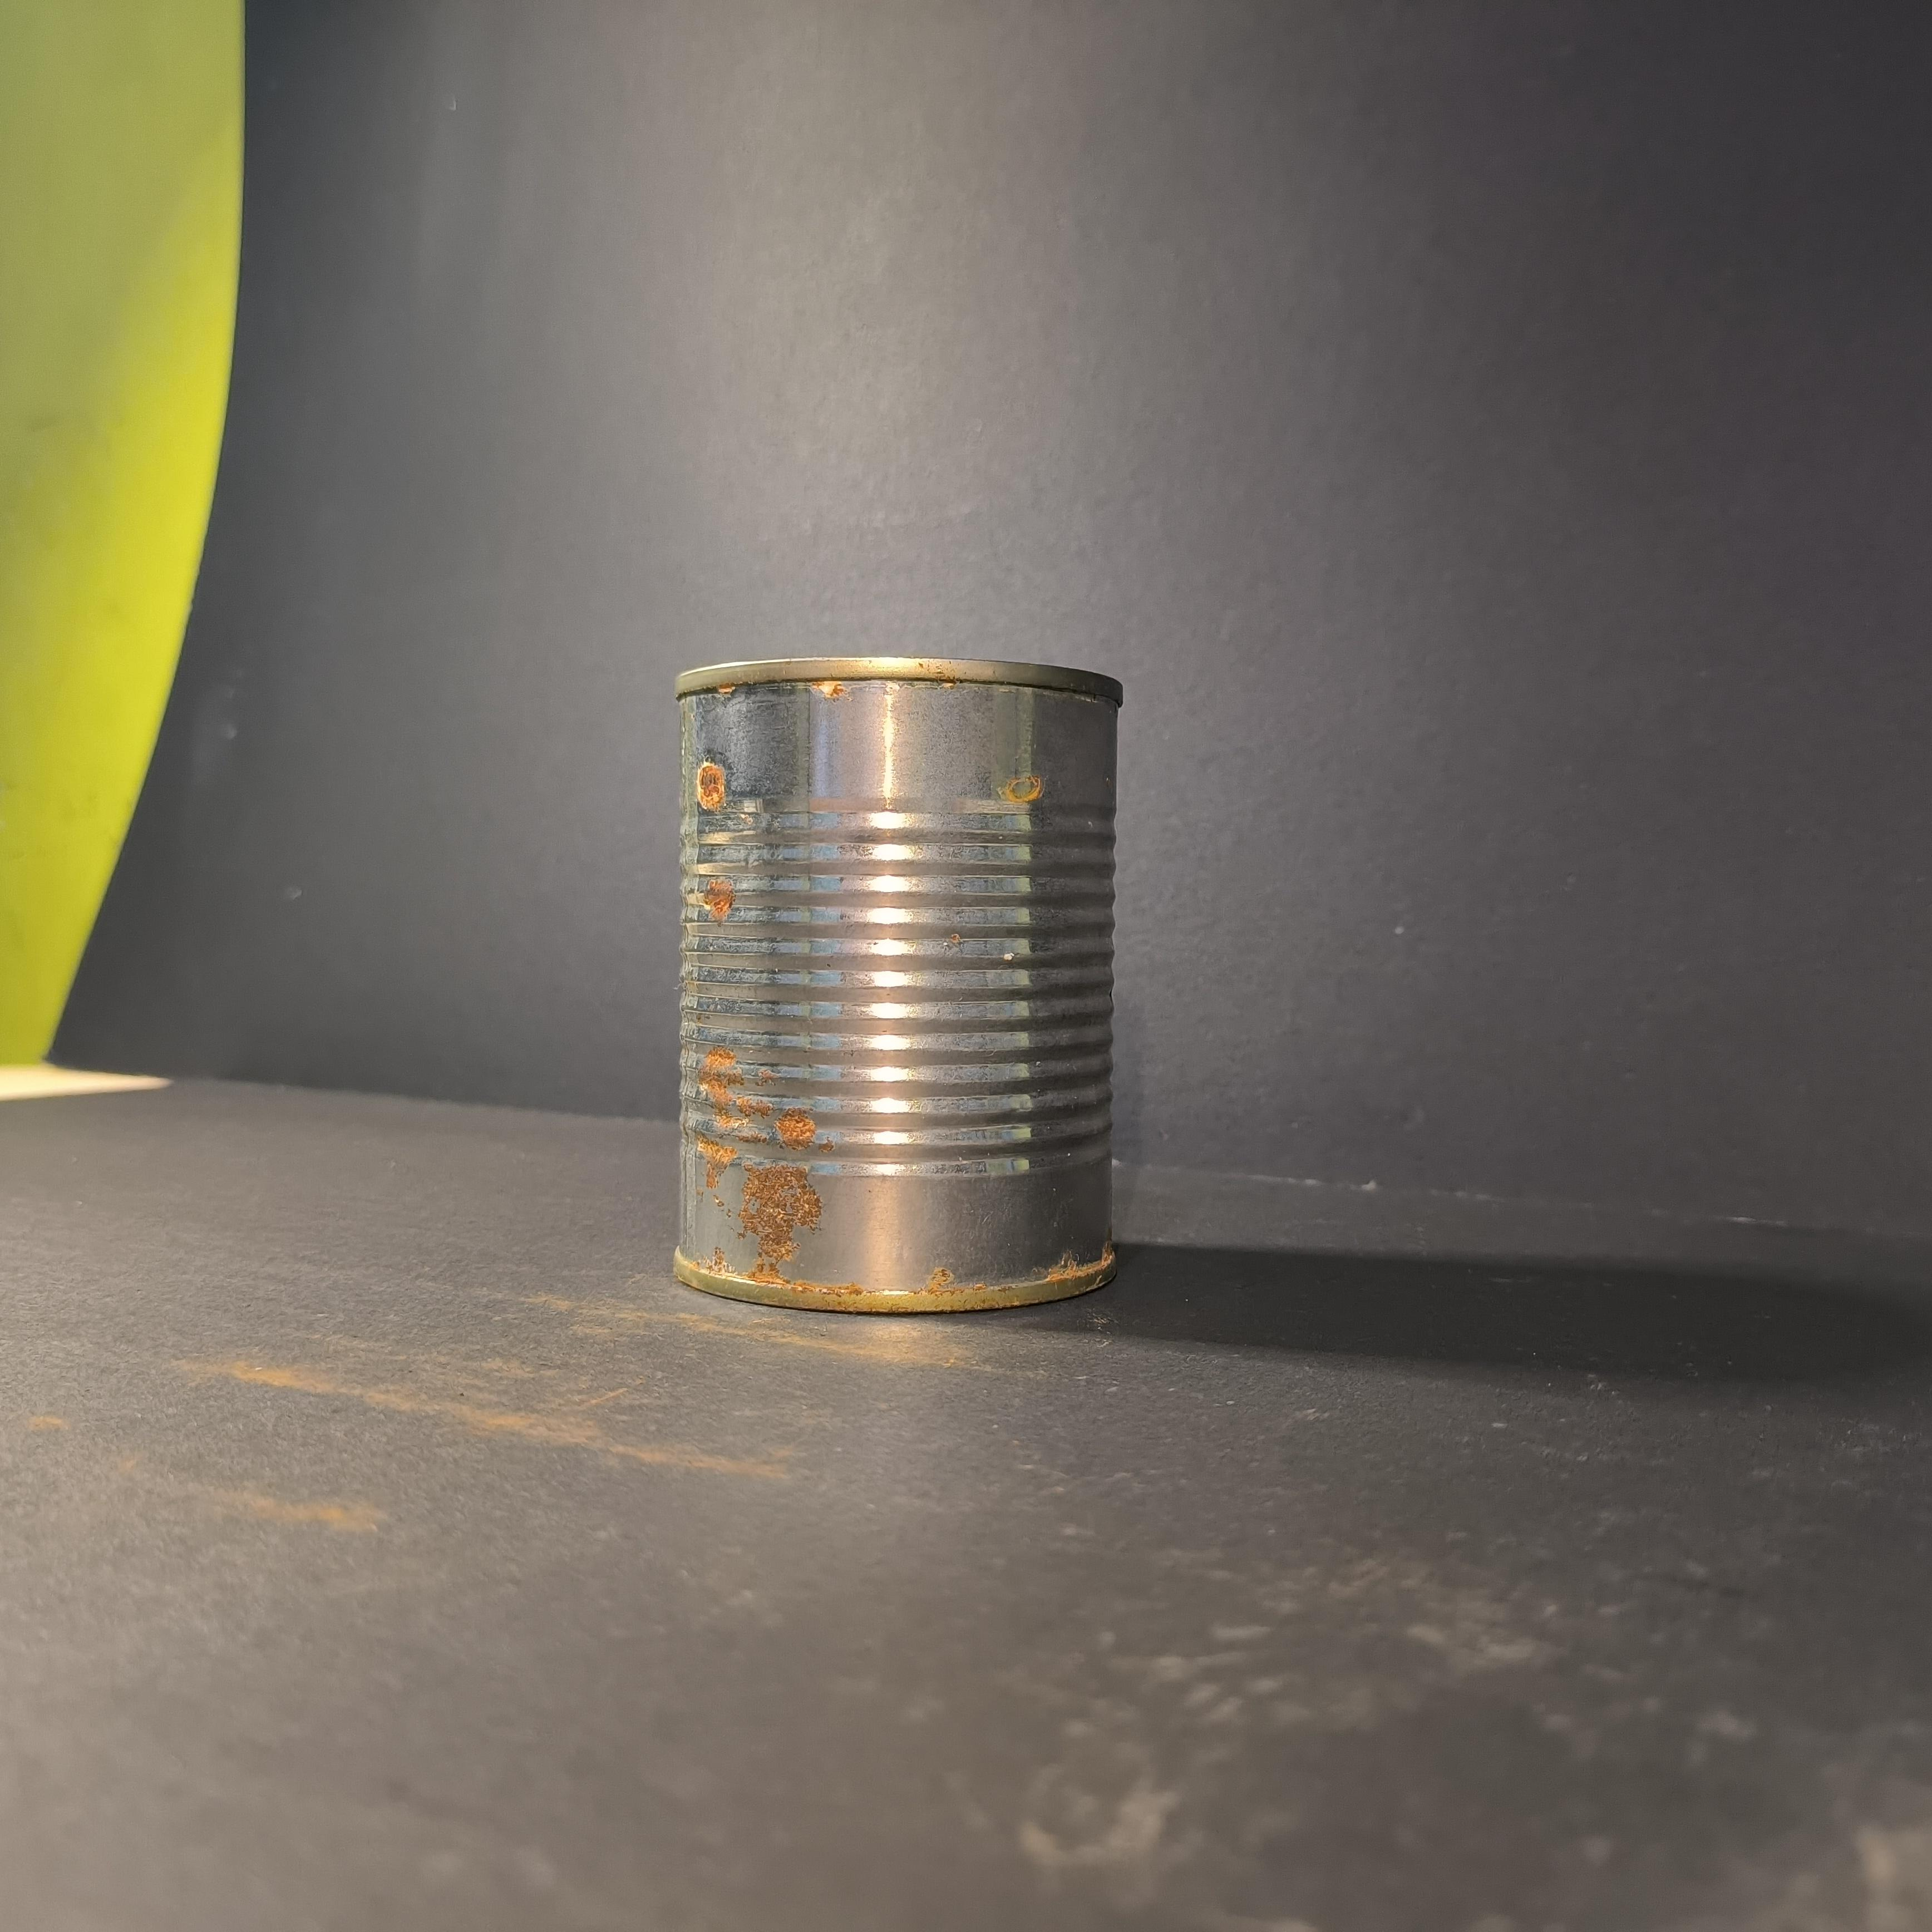Major Defect: (665, 646, 1127, 1327)
